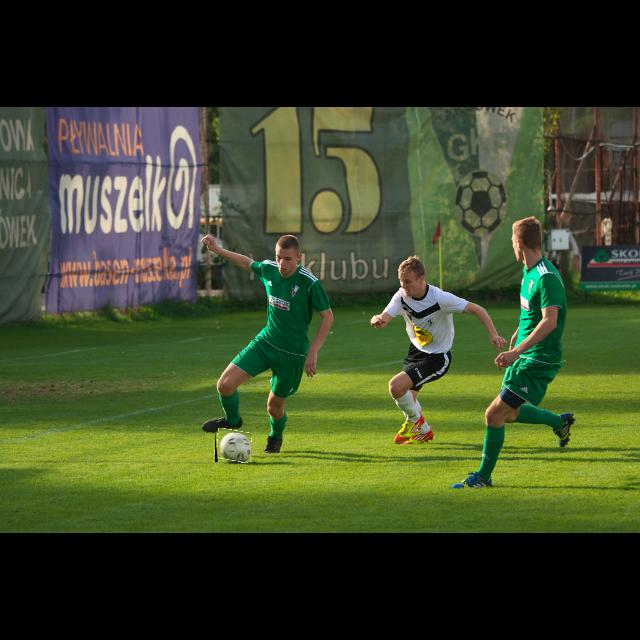Football: (215, 430, 251, 462)
